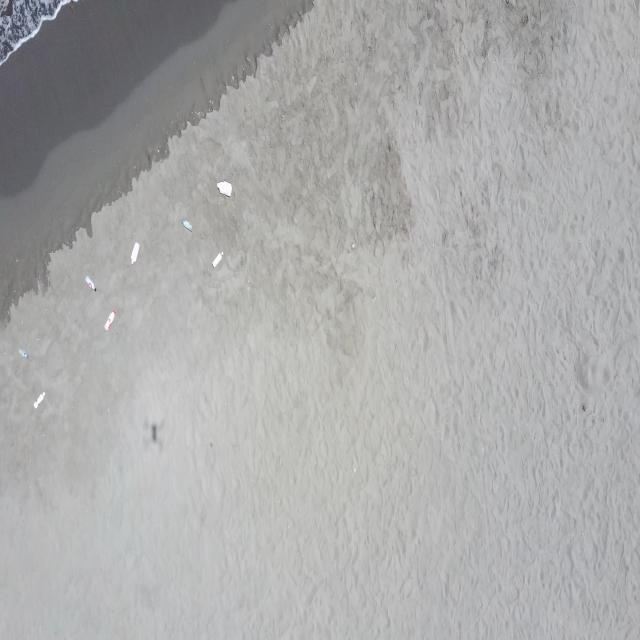Garbage: (216, 180, 231, 196), (103, 311, 114, 329), (84, 275, 95, 291), (131, 242, 139, 263), (33, 392, 44, 407), (212, 252, 223, 267), (180, 219, 191, 231), (20, 347, 27, 357), (352, 241, 355, 248)
